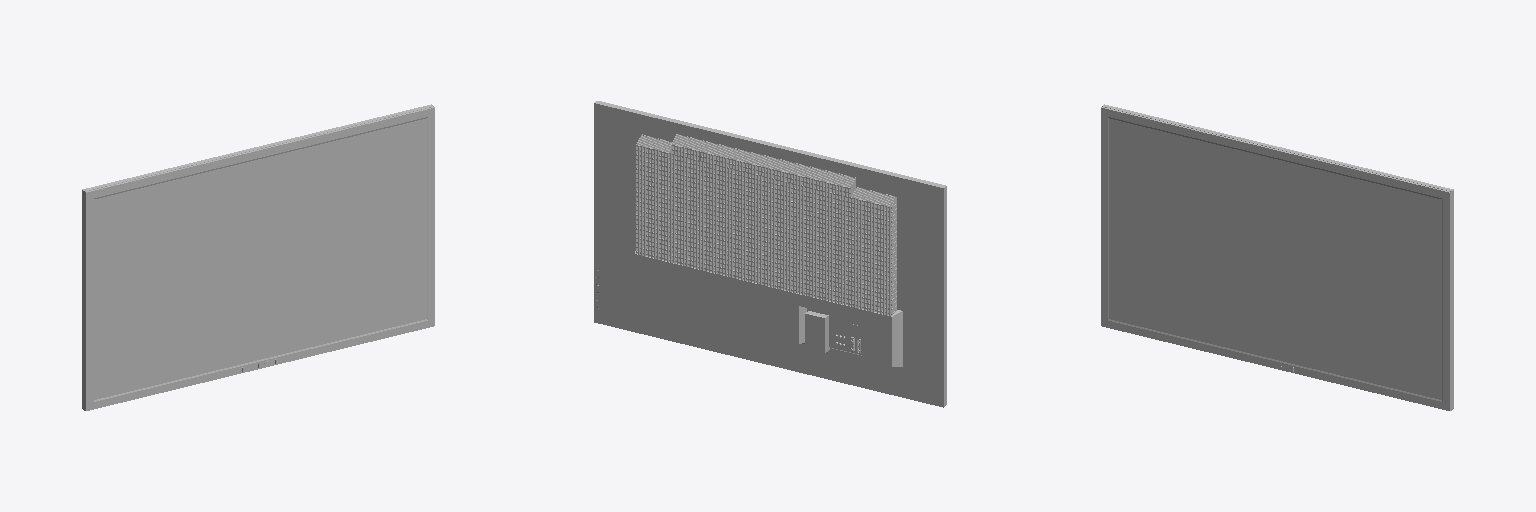
Rendered from Plasma Television black.obj.
3 renders of one model, left to right at view 1: azimuth 30°, elevation 25°; view 2: azimuth 150°, elevation 25°; view 3: azimuth 330°, elevation 25°, orthographic.
Visible parts, largest first — view 1: screen, surround; view 2: surround, Cube.005, Cube.006, Cube.007; view 3: screen, surround.
Boxes of the visible parts, <box> form: screen: <box>94,118,426,399</box>; surround: <box>82,104,434,410</box>; surround: <box>594,101,946,407</box>; Cube.005: <box>636,134,896,315</box>; Cube.006: <box>636,145,896,314</box>; Cube.007: <box>671,134,855,196</box>; screen: <box>1109,118,1441,399</box>; surround: <box>1101,104,1453,410</box>.
Bounding box in the file's own units: 5.78 × 3.46 × 0.2728.